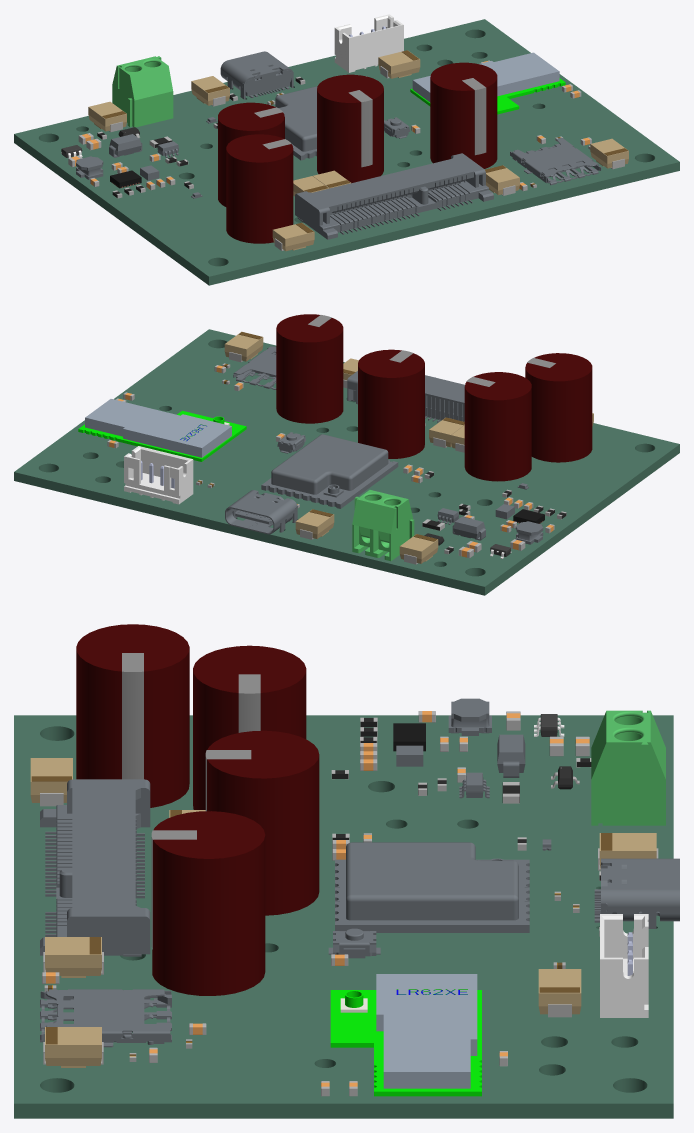
Rendered from RemoteTankMonitoring-Enclosure+TankMountMainBoard.gltf.
The picture shows the model from 3 angles, top to bottom: view 1: azimuth 30°, elevation 25°; view 2: azimuth 150°, elevation 25°; view 3: azimuth 270°, elevation 25°; orthographic projection. The views are drawn at different scales.
Parts seen in each view (by area): view 1: RemoteTankMonitoring_PCB, SOLID, 25ZLH470MEFC10X12.003, 25ZLH470MEFC10X12.002, 25ZLH470MEFC10X12.5, DB301V-3.5-2P-GN-S, lr62xe, 25ZLH470MEFC10X12.001, body_4, TYPE-C-31-M-12, SIM8051-6-0-14-00-A, .step 1.47.1 (+10 smaller); view 2: RemoteTankMonitoring_PCB, 25ZLH470MEFC10X12.5, 25ZLH470MEFC10X12.001, 25ZLH470MEFC10X12.002, 25ZLH470MEFC10X12.003, .step 1.47.1, lr62xe, DB301V-3.5-2P-GN-S, body_4, TYPE-C-31-M-12, SOLID, SIM8051-6-0-14-00-A (+7 smaller); view 3: RemoteTankMonitoring_PCB, 25ZLH470MEFC10X12.5, 25ZLH470MEFC10X12.003, .step 1.47.1, SOLID, lr62xe, 25ZLH470MEFC10X12.002, 25ZLH470MEFC10X12.001, DB301V-3.5-2P-GN-S, SIM8051-6-0-14-00-A, TYPE-C-31-M-12, body_4 (+9 smaller).
Part boxes in pixels (x1=…): RemoteTankMonitoring_PCB: x1=14, y1=19, x2=679, y2=285; SOLID: x1=295, y1=153, x2=493, y2=239; 25ZLH470MEFC10X12.003: x1=226, y1=134, x2=293, y2=243; 25ZLH470MEFC10X12.002: x1=317, y1=74, x2=383, y2=183; 25ZLH470MEFC10X12.5: x1=430, y1=62, x2=497, y2=168; DB301V-3.5-2P-GN-S: x1=112, y1=56, x2=173, y2=127; lr62xe: x1=410, y1=52, x2=565, y2=114; 25ZLH470MEFC10X12.001: x1=218, y1=102, x2=284, y2=206; body_4: x1=334, y1=14, x2=403, y2=72; TYPE-C-31-M-12: x1=220, y1=51, x2=293, y2=99; SIM8051-6-0-14-00-A: x1=510, y1=138, x2=601, y2=185; .step 1.47.1: x1=275, y1=86, x2=317, y2=160; RemoteTankMonitoring_PCB: x1=14, y1=329, x2=679, y2=595; 25ZLH470MEFC10X12.5: x1=276, y1=314, x2=343, y2=423; 25ZLH470MEFC10X12.001: x1=464, y1=372, x2=531, y2=481; 25ZLH470MEFC10X12.002: x1=358, y1=349, x2=424, y2=458; 25ZLH470MEFC10X12.003: x1=525, y1=353, x2=592, y2=462; .step 1.47.1: x1=261, y1=434, x2=398, y2=508; lr62xe: x1=78, y1=399, x2=246, y2=461; DB301V-3.5-2P-GN-S: x1=352, y1=490, x2=414, y2=561; body_4: x1=124, y1=446, x2=193, y2=504; TYPE-C-31-M-12: x1=225, y1=490, x2=297, y2=534; SOLID: x1=347, y1=371, x2=464, y2=422; SIM8051-6-0-14-00-A: x1=233, y1=346, x2=276, y2=389; RemoteTankMonitoring_PCB: x1=14, y1=715, x2=673, y2=1118; 25ZLH470MEFC10X12.5: x1=151, y1=811, x2=265, y2=995; 25ZLH470MEFC10X12.003: x1=76, y1=624, x2=189, y2=807; .step 1.47.1: x1=335, y1=842, x2=529, y2=932; SOLID: x1=40, y1=779, x2=150, y2=956; lr62xe: x1=330, y1=974, x2=481, y2=1096; 25ZLH470MEFC10X12.002: x1=205, y1=730, x2=319, y2=915; 25ZLH470MEFC10X12.001: x1=193, y1=645, x2=306, y2=809; DB301V-3.5-2P-GN-S: x1=591, y1=710, x2=665, y2=825; SIM8051-6-0-14-00-A: x1=40, y1=989, x2=171, y2=1047; TYPE-C-31-M-12: x1=594, y1=858, x2=679, y2=928; body_4: x1=600, y1=914, x2=648, y2=1017.
Size of the model in its own units: 0.085 by 0.0184 by 0.0616.
